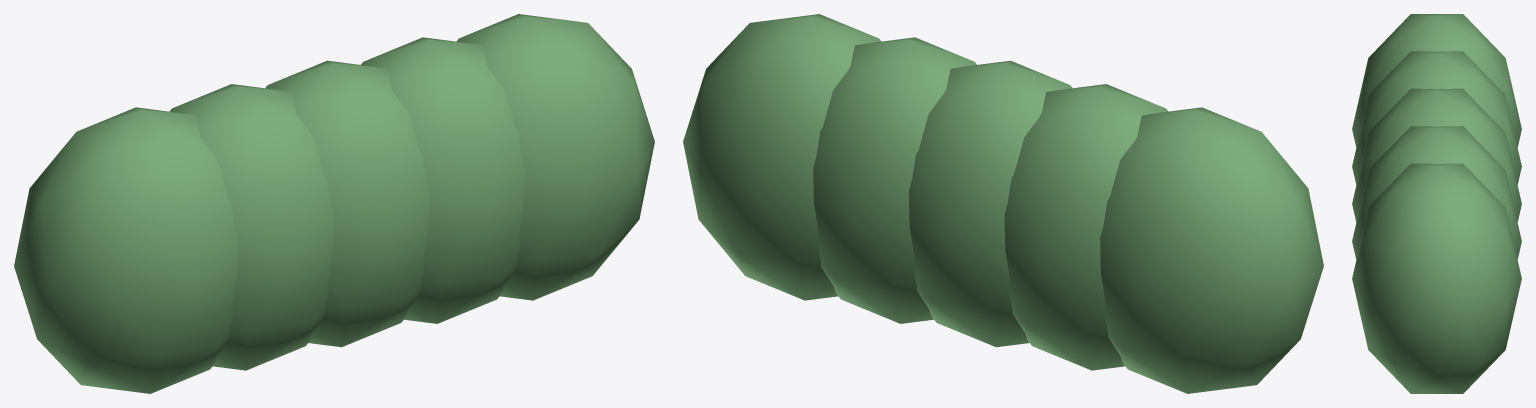
File: Hedge_section.fbx
3 views of the same model, side by side, from view 1: azimuth 30°, elevation 25°; view 2: azimuth 150°, elevation 25°; view 3: azimuth 270°, elevation 25° (orthographic). The views are drawn at different scales.
Parts seen in each view (by area): view 1: Town_Hedge_section Hedge foliage.005, Town_Hedge_section Hedge foliage.009, Town_Hedge_section Hedge foliage.008, Town_Hedge_section Hedge foliage.006, Town_Hedge_section Hedge foliage.007; view 2: Town_Hedge_section Hedge foliage.005, Town_Hedge_section Hedge foliage.009, Town_Hedge_section Hedge foliage.008, Town_Hedge_section Hedge foliage.006, Town_Hedge_section Hedge foliage.007; view 3: Town_Hedge_section Hedge foliage.009, Town_Hedge_section Hedge foliage.007, Town_Hedge_section Hedge foliage.006, Town_Hedge_section Hedge foliage.008, Town_Hedge_section Hedge foliage.005.
Boxes of the visible parts, box(x1,y1,x2,y2) form: Town_Hedge_section Hedge foliage.005: box(14, 107, 237, 393); Town_Hedge_section Hedge foliage.009: box(456, 14, 654, 300); Town_Hedge_section Hedge foliage.008: box(361, 37, 524, 323); Town_Hedge_section Hedge foliage.006: box(169, 84, 333, 370); Town_Hedge_section Hedge foliage.007: box(265, 60, 429, 347); Town_Hedge_section Hedge foliage.005: box(1100, 107, 1323, 393); Town_Hedge_section Hedge foliage.009: box(683, 14, 881, 300); Town_Hedge_section Hedge foliage.008: box(813, 37, 976, 323); Town_Hedge_section Hedge foliage.006: box(1004, 84, 1168, 370); Town_Hedge_section Hedge foliage.007: box(908, 60, 1072, 347); Town_Hedge_section Hedge foliage.009: box(1352, 163, 1521, 393); Town_Hedge_section Hedge foliage.007: box(1352, 88, 1521, 221); Town_Hedge_section Hedge foliage.006: box(1352, 51, 1521, 184); Town_Hedge_section Hedge foliage.008: box(1352, 126, 1521, 259); Town_Hedge_section Hedge foliage.005: box(1352, 14, 1521, 146).
Size of the model in its own units: 318 by 140 by 96.
